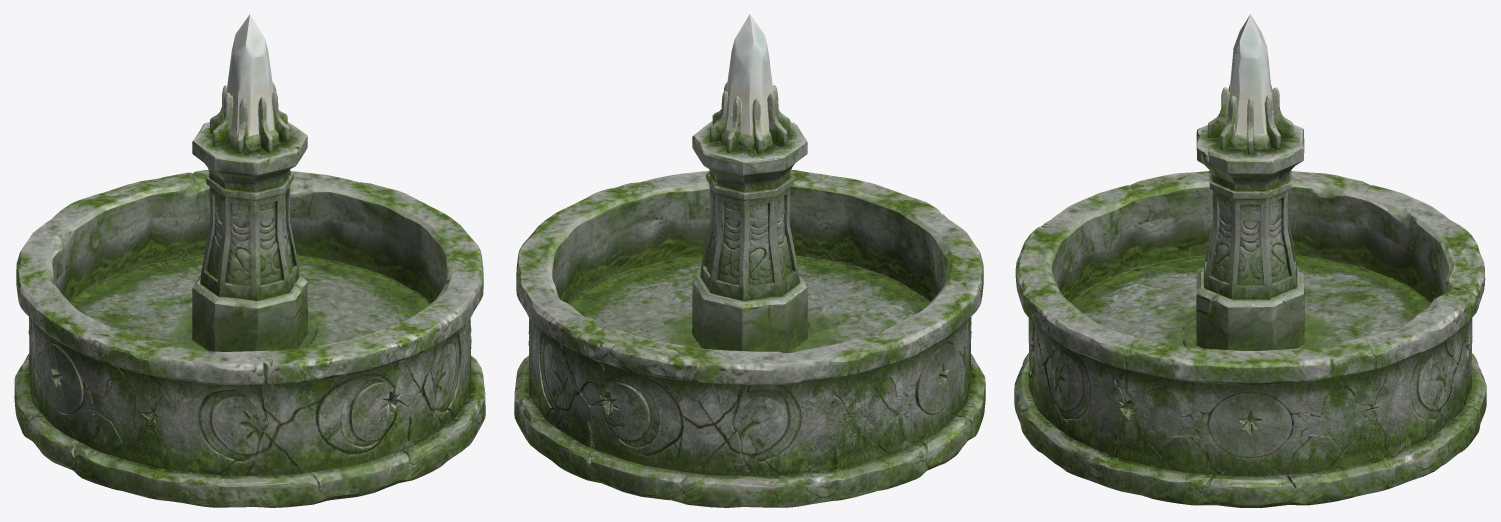
Rendered from hf_fountain.glb.
The picture shows the model from 3 angles, left to right: view 1: azimuth 30°, elevation 25°; view 2: azimuth 150°, elevation 25°; view 3: azimuth 270°, elevation 25°; orthographic projection.
Size of the model in its own units: 1.9 by 1.75 by 1.9.
1 material, 1 textured.
